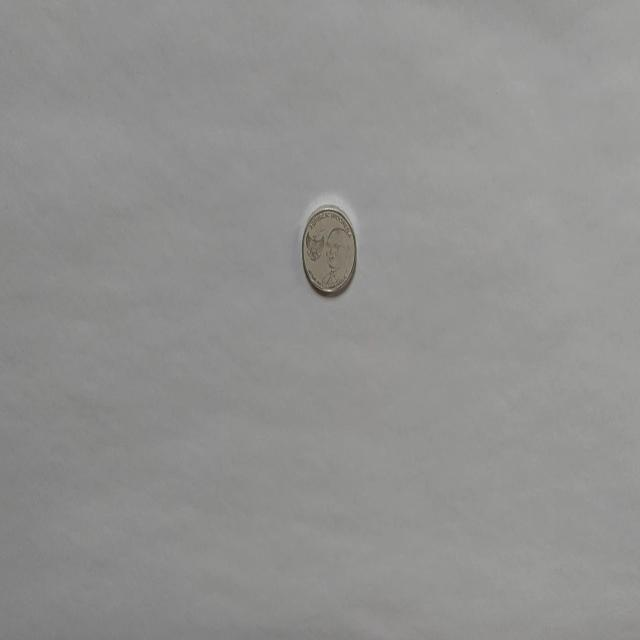lima ratus rupiah: (300, 204, 356, 296)
